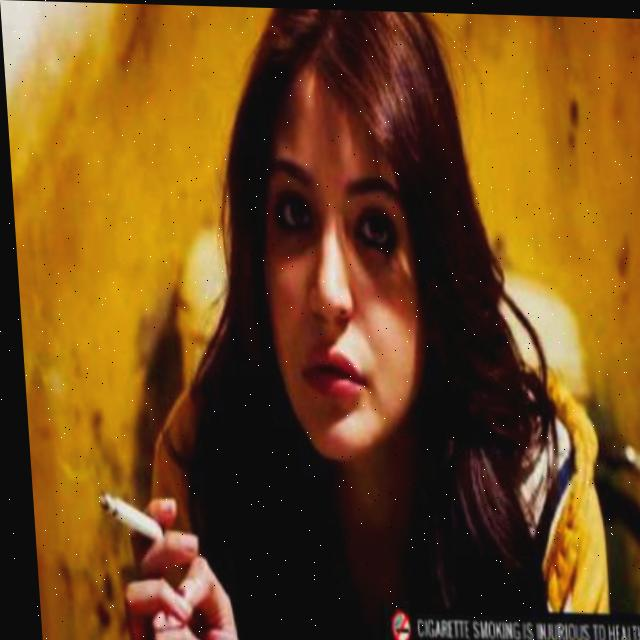cigarette: (89, 488, 161, 545)
